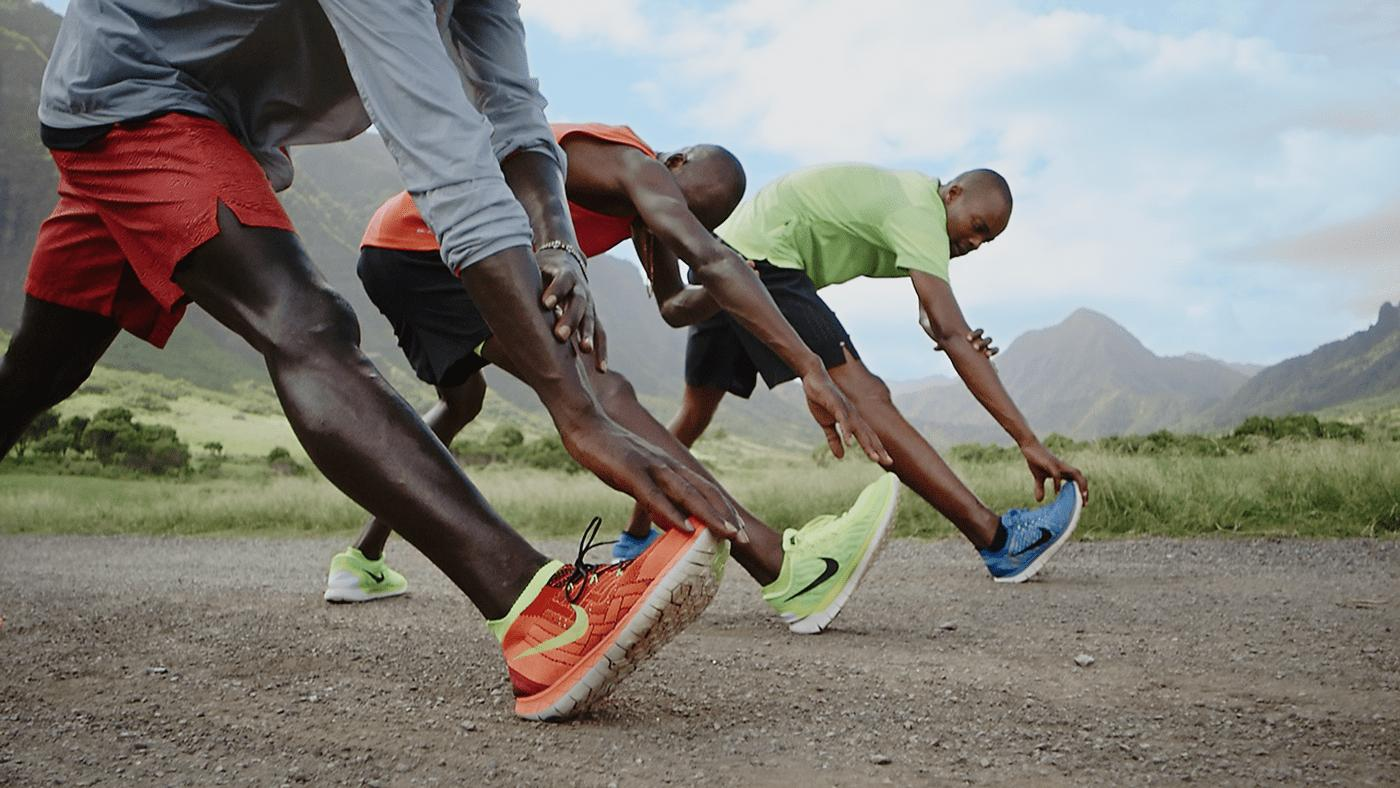nike logo: (501, 584, 607, 682), (769, 544, 860, 624), (998, 519, 1067, 569), (351, 560, 399, 590)
